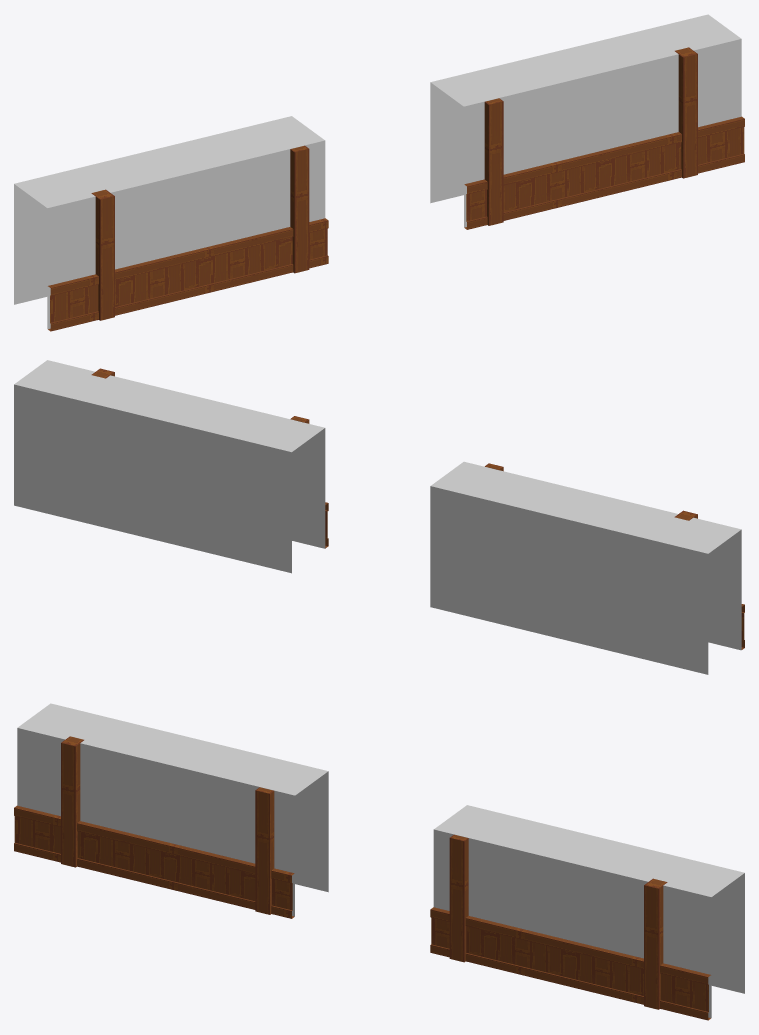
Rendered from Wall-WoodDetailed-Passage.fbx.
The picture shows the model from 3 angles, top to bottom: view 1: azimuth 30°, elevation 25°; view 2: azimuth 150°, elevation 25°; view 3: azimuth 330°, elevation 25°; orthographic projection.
Parts seen in each view (by area): view 1: Wall-WoodDetailed-Passage; view 2: Wall-WoodDetailed-Passage; view 3: Wall-WoodDetailed-Passage.
Boxes of the visible parts, bbox=[...] form: Wall-WoodDetailed-Passage: bbox=[14, 14, 744, 331]; Wall-WoodDetailed-Passage: bbox=[14, 360, 744, 674]; Wall-WoodDetailed-Passage: bbox=[14, 703, 744, 1020].
Size of the model in its own units: 6 by 1 by 0.5678.
